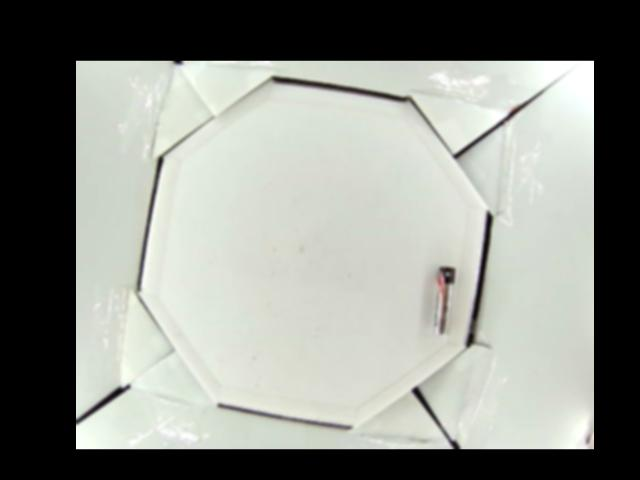Battery: (434, 267, 456, 336)
